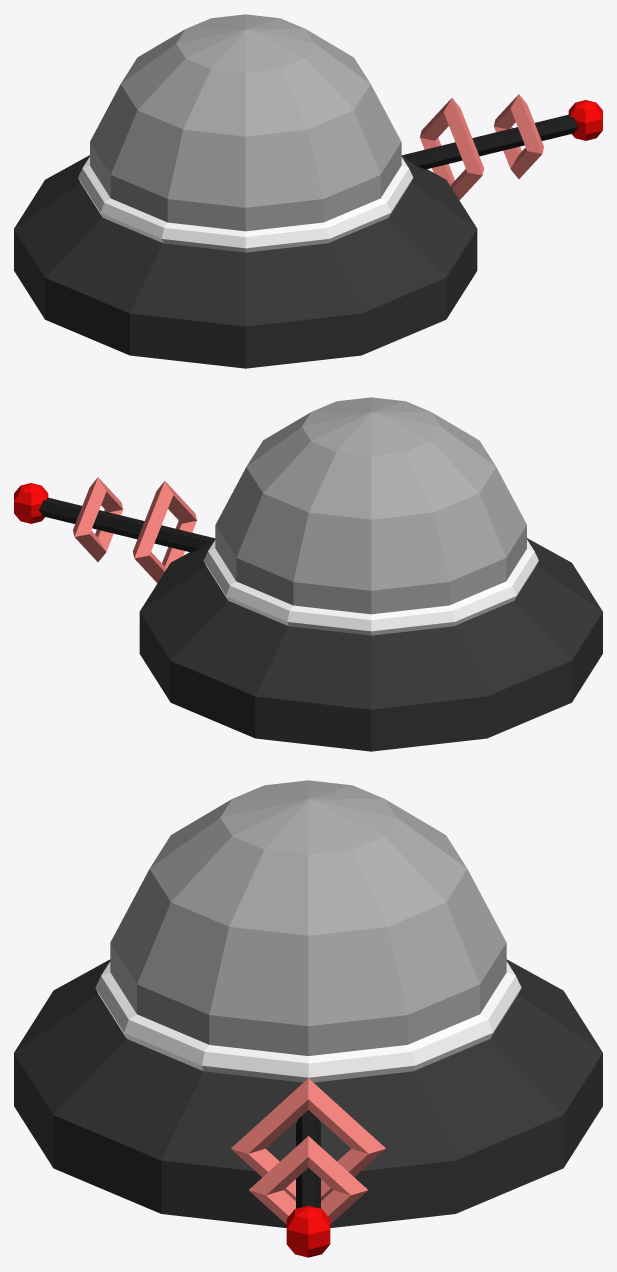
Rendered from alien_ship5.fbx.
3 renders of one model, top to bottom at view 1: azimuth 30°, elevation 25°; view 2: azimuth 150°, elevation 25°; view 3: azimuth 270°, elevation 25°, orthographic. The views are drawn at different scales.
Visible parts, largest first — view 1: merge4; view 2: merge4; view 3: merge4.
Boxes of the visible parts, x1=… form: merge4: x1=14, y1=14, x2=602, y2=368; merge4: x1=14, y1=397, x2=602, y2=751; merge4: x1=14, y1=780, x2=602, y2=1257.
Size of the model in its own units: 2.78 by 1.15 by 2.
